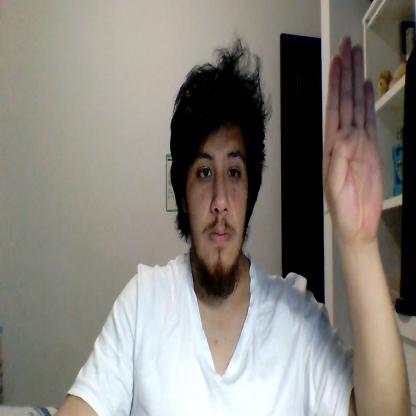B: (322, 34, 382, 243)
